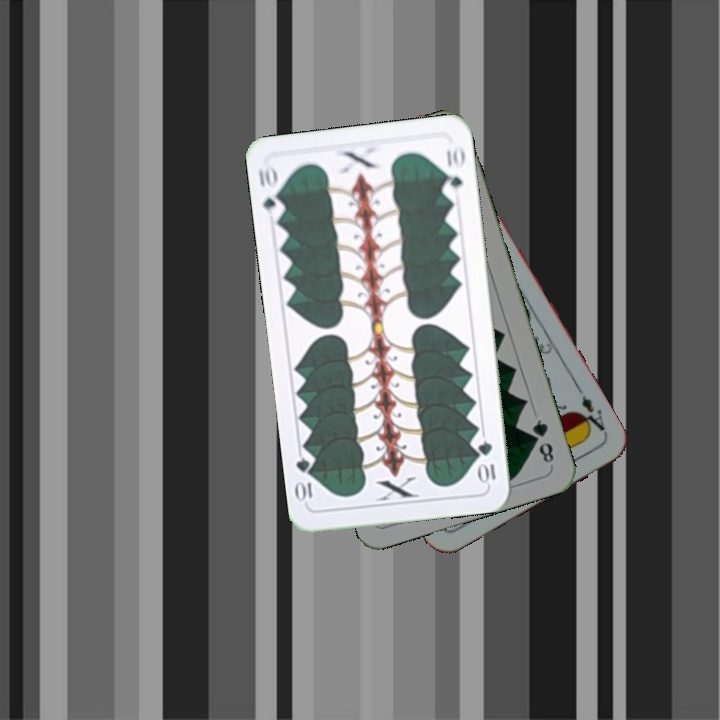EA: (574, 391, 609, 437)
G10: (254, 161, 286, 221), (474, 436, 498, 486)
G8: (528, 415, 557, 466)
